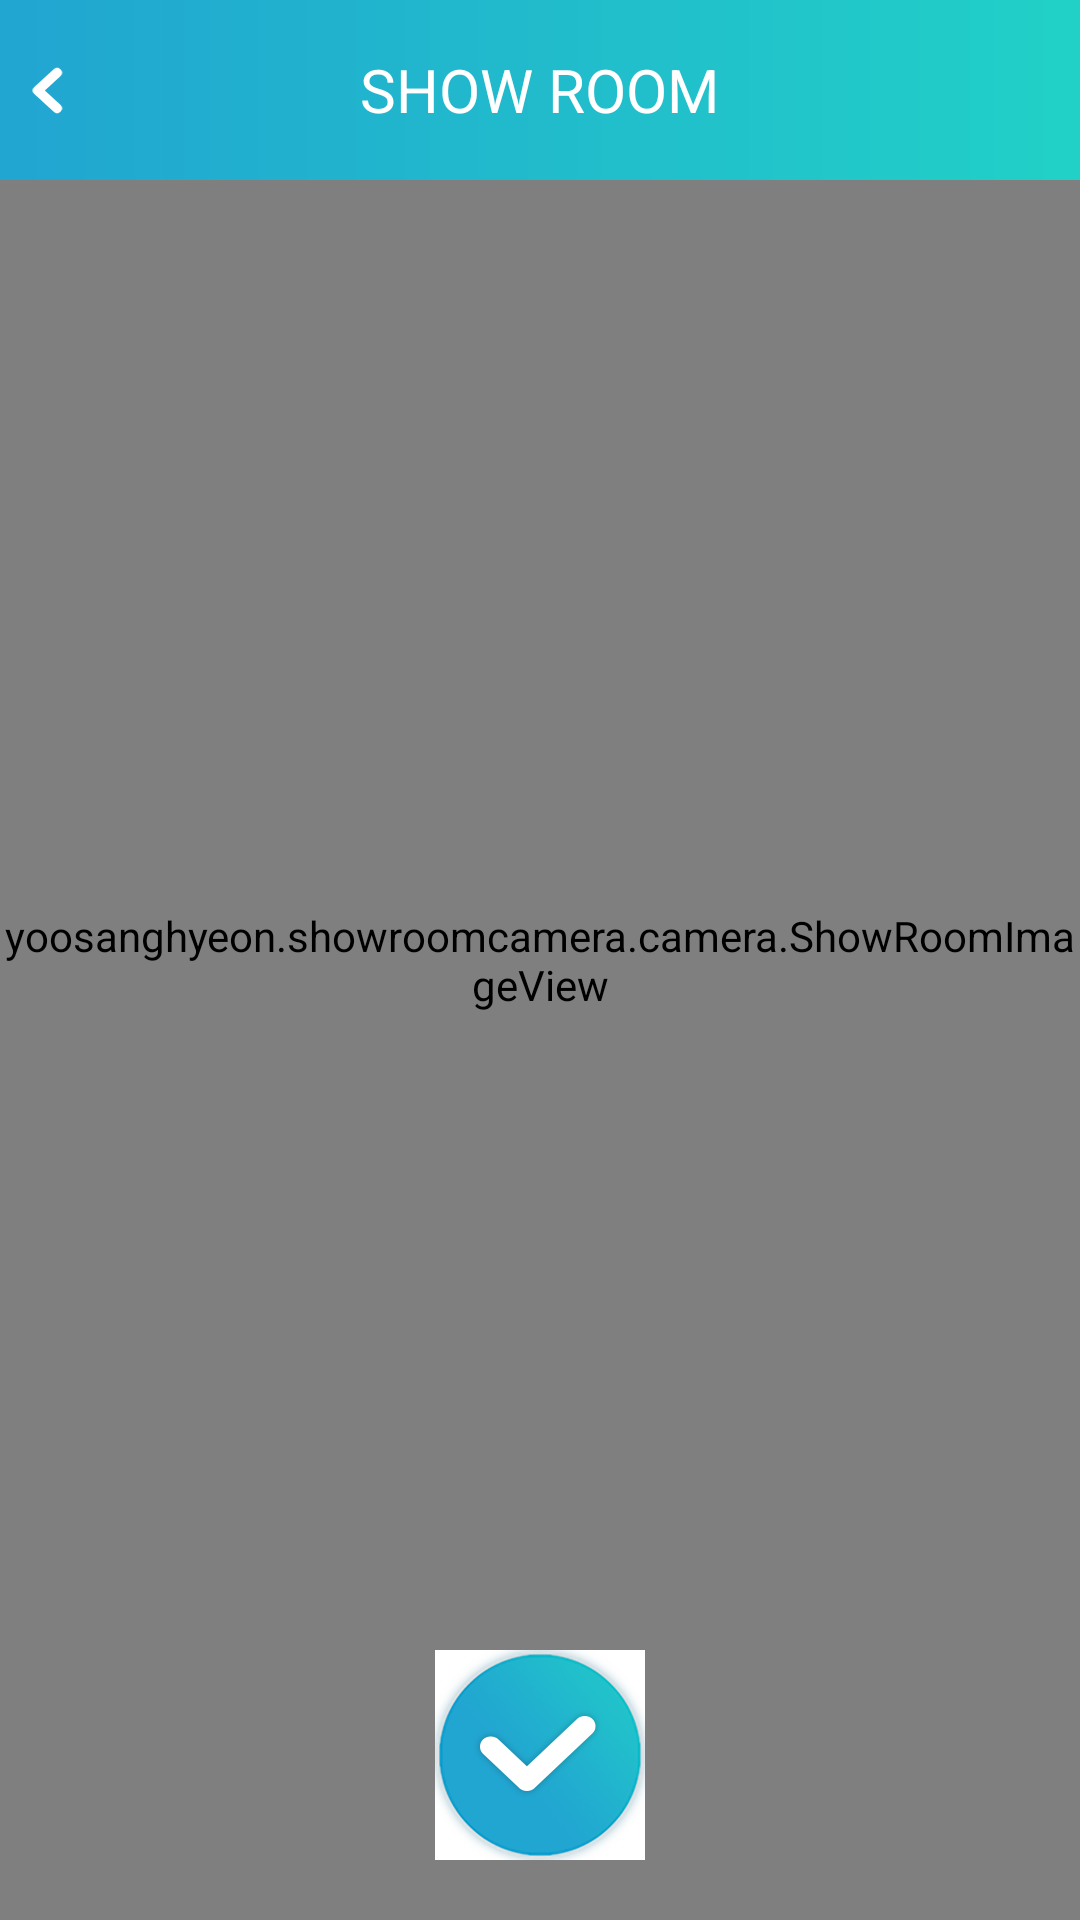

Where to tap for icons on this 1080px×1920px app screen, as point (x, y):
camara ok: point (540, 1755)
left: point (47, 90)
